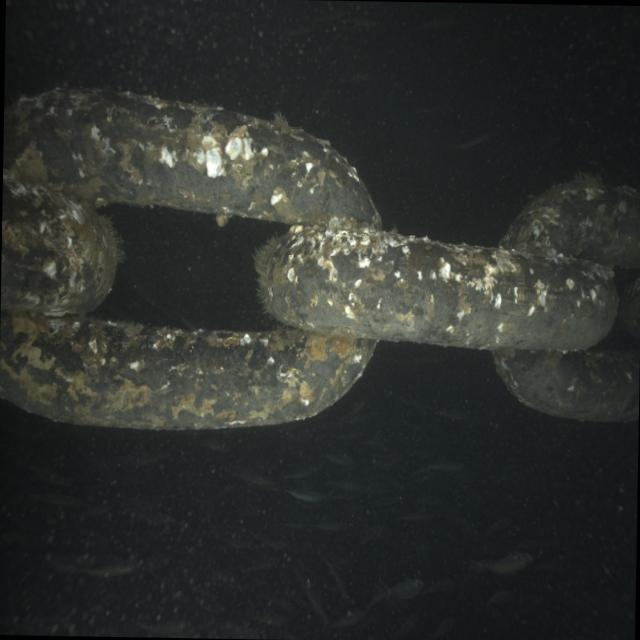ChainLink: (3, 89, 379, 226), (257, 227, 616, 350), (0, 312, 375, 429), (1, 179, 121, 314), (500, 175, 640, 266), (492, 348, 639, 421)
